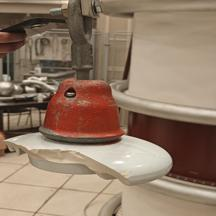insulator: (0, 73, 181, 191)
